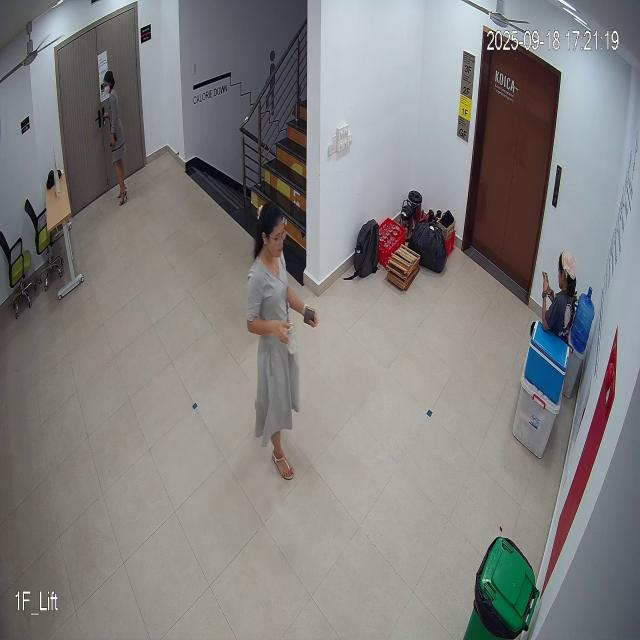face: (254, 202, 288, 265)
